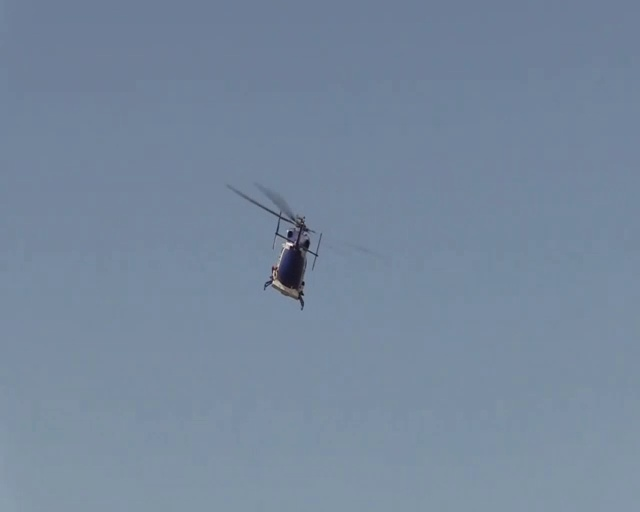HELICOPTER: (221, 181, 384, 309)
